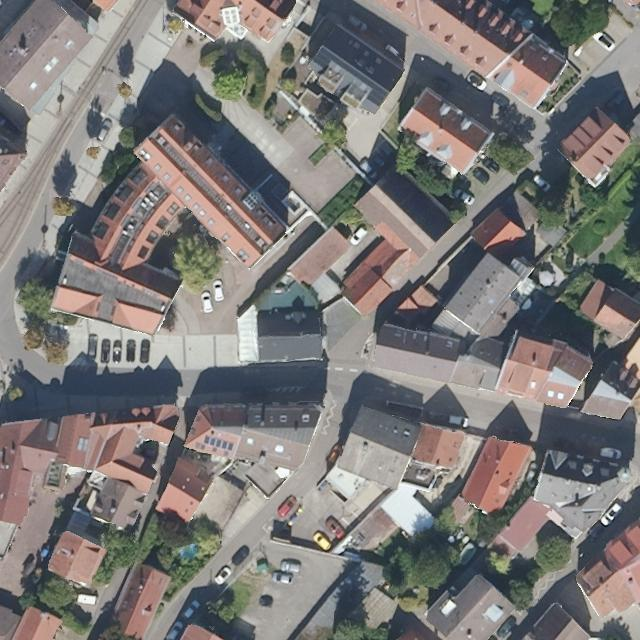PV: (202, 433, 236, 452)
